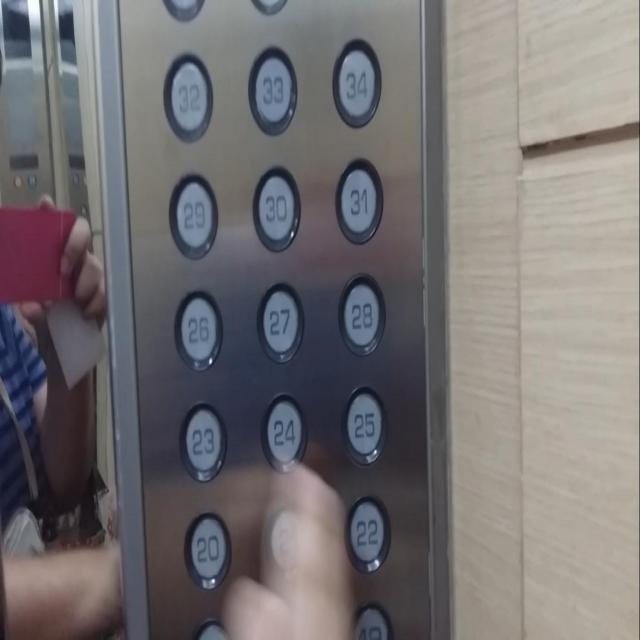20: (183, 509, 232, 592)
22: (344, 491, 393, 576)
23: (177, 401, 228, 487)
24: (259, 387, 309, 474)
25: (340, 379, 388, 468)
26: (173, 288, 224, 372)
27: (255, 282, 305, 366)
28: (338, 272, 385, 355)
29: (167, 172, 220, 261)
30: (250, 162, 303, 255)
31: (332, 154, 385, 248)
32: (161, 49, 213, 141)
33: (244, 41, 300, 136)
34: (330, 36, 384, 126)
blur: (265, 498, 309, 574)
